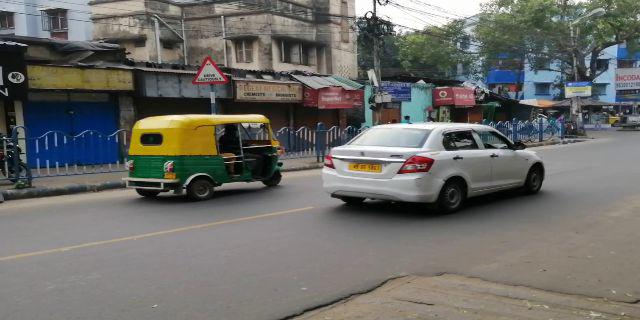Autorickshaw: (127, 115, 289, 195)
Car: (318, 126, 546, 217)
